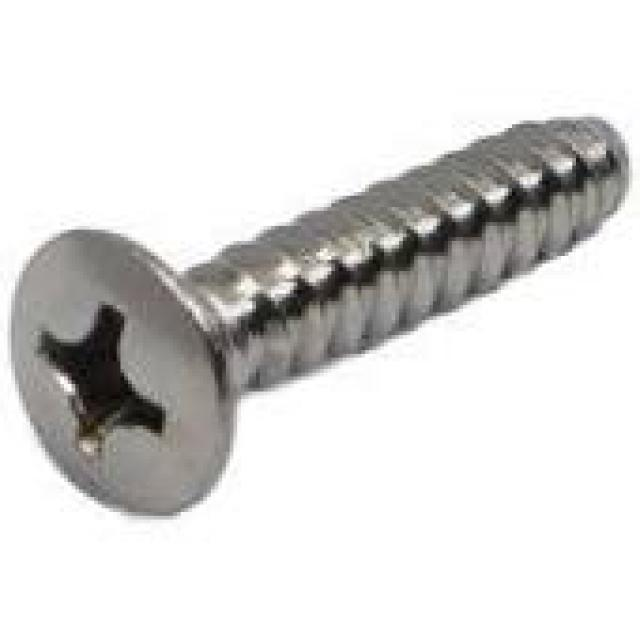Screw: (11, 117, 632, 520)
